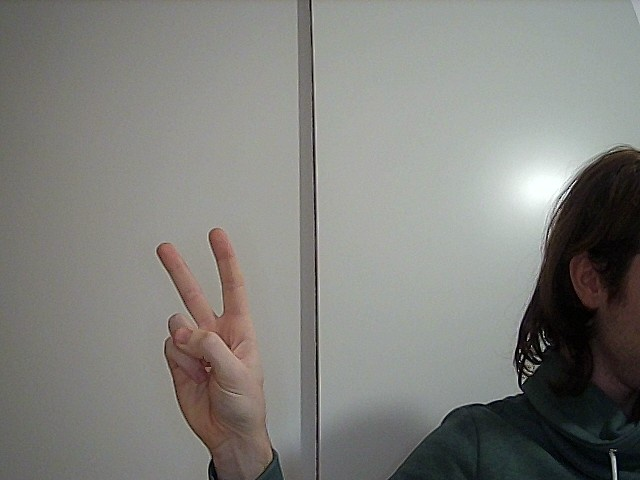v: (140, 218, 287, 452)
